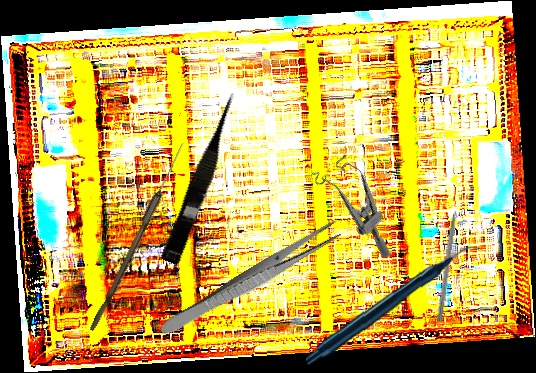Dressing Forceps: (157, 217, 346, 343)
Handpiece: (305, 243, 480, 368)
Hook Surgical: (436, 199, 461, 322)
Micro Scissor: (160, 90, 246, 267)
Speculum: (303, 146, 419, 260)
Surgical Spoon: (89, 140, 187, 334)
